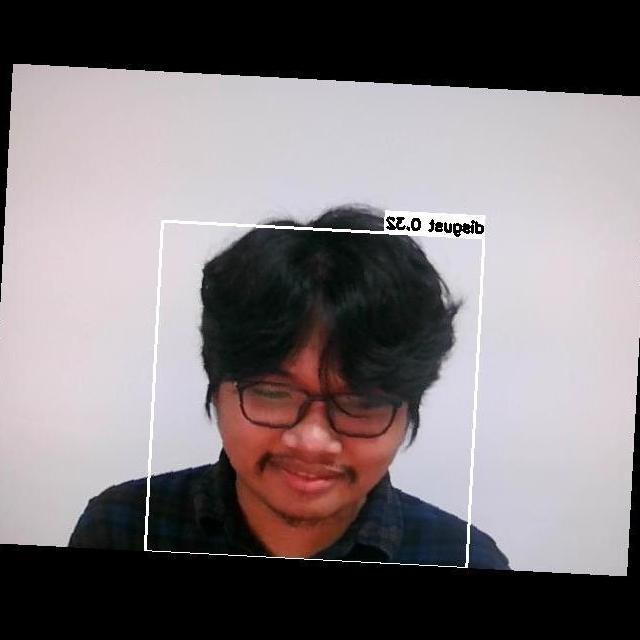Happy: (226, 348, 405, 513)
